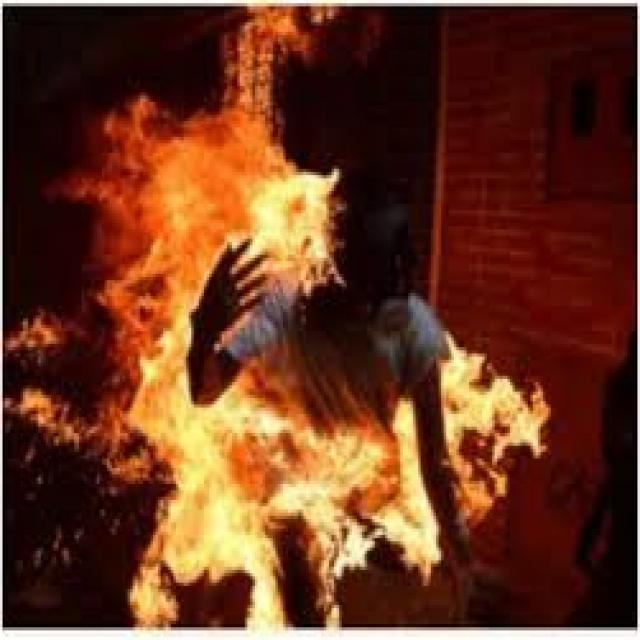fire: (3, 99, 186, 621), (186, 404, 441, 628), (56, 6, 337, 156), (446, 334, 579, 542), (265, 159, 342, 293)
